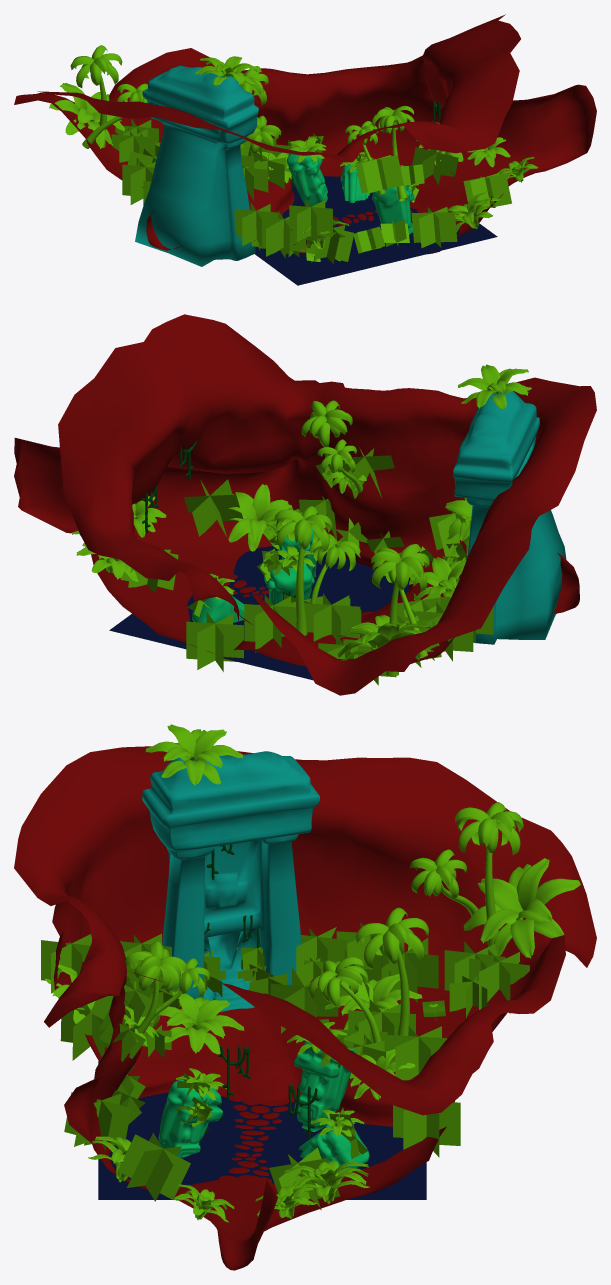
The model's file is Jungle_SF1.fbx.
3 renders of one model, top to bottom at view 1: azimuth 30°, elevation 25°; view 2: azimuth 150°, elevation 25°; view 3: azimuth 270°, elevation 25°, orthographic. The views are drawn at different scales.
Visible parts, largest first — view 1: JungleEnvironment1_Ground_2, Temple_Model_51, JungleEnvironment1_Water2_5, Bush_Model13, Statue_Model2, Grass_Tall_Model34, Grass_Tall_Model26, Grass_Tall_Model19, PalmA_Model4, Statue_Model_11, Grass_Tall_Model24, Grass_Tall_Model2 (+23 smaller); view 2: JungleEnvironment1_Ground_2, Temple_Model_51, JungleEnvironment1_Water2_5, PalmA_Model3_38, Grass_Tall_Model14, PalmA_Model4, Bush_Model15, Grass_Tall_Model28, Grass_Tall_Model24, Grass_Tall_Model12, Bush_Model11, PalmC_Model2 (+16 smaller); view 3: JungleEnvironment1_Ground_2, Temple_Model_51, JungleEnvironment1_Water2_5, Bush_Model13, PalmA_Model3_38, PalmA_Model4, Grass_Tall_Model24, Bush_Model11, Statue_Model2, Bush_Model10, Statue_Model_11, Grass_Tall_Model14 (+26 smaller).
Boxes of the visible parts, box(x1,y1,x2,y2) form: JungleEnvironment1_Ground_2: box(14, 14, 596, 254); Temple_Model_51: box(135, 65, 258, 266); JungleEnvironment1_Water2_5: box(255, 176, 497, 285); Bush_Model13: box(49, 83, 124, 148); Statue_Model2: box(286, 150, 327, 206); Grass_Tall_Model34: box(411, 207, 457, 247); Grass_Tall_Model26: box(289, 198, 332, 243); Grass_Tall_Model19: box(355, 155, 403, 193); PalmA_Model4: box(70, 45, 122, 147); Statue_Model_11: box(372, 185, 414, 234); Grass_Tall_Model24: box(463, 173, 511, 209); Grass_Tall_Model2: box(234, 202, 278, 247); JungleEnvironment1_Ground_2: box(14, 314, 596, 695); Temple_Model_51: box(453, 390, 566, 644); JungleEnvironment1_Water2_5: box(109, 546, 409, 680); PalmA_Model3_38: box(274, 506, 332, 635); Grass_Tall_Model14: box(186, 612, 243, 671); PalmA_Model4: box(371, 544, 429, 676); Bush_Model15: box(228, 484, 291, 551); Grass_Tall_Model28: box(304, 593, 360, 641); Grass_Tall_Model24: box(184, 479, 243, 536); Grass_Tall_Model12: box(244, 594, 296, 652); Bush_Model11: box(458, 364, 531, 408); PalmC_Model2: box(301, 400, 352, 483); JungleEnvironment1_Ground_2: box(14, 746, 596, 1270); Temple_Model_51: box(142, 751, 319, 1011); JungleEnvironment1_Water2_5: box(98, 1061, 426, 1199); Bush_Model13: box(463, 858, 580, 958); PalmA_Model3_38: box(355, 907, 428, 1035); PalmA_Model4: box(455, 802, 523, 946); Grass_Tall_Model24: box(117, 1132, 190, 1201); Bush_Model11: box(145, 724, 243, 785); Statue_Model2: box(293, 1041, 355, 1131); Bush_Model10: box(159, 991, 244, 1054); Statue_Model_11: box(158, 1079, 222, 1157); Grass_Tall_Model14: box(393, 1102, 460, 1157).
Size of the model in its own units: 1937 by 942 by 1421.
